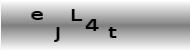4: (85, 17, 100, 33)
J: (53, 26, 62, 43)
L: (71, 7, 84, 23)
e: (30, 10, 46, 21)
t: (106, 24, 119, 40)
